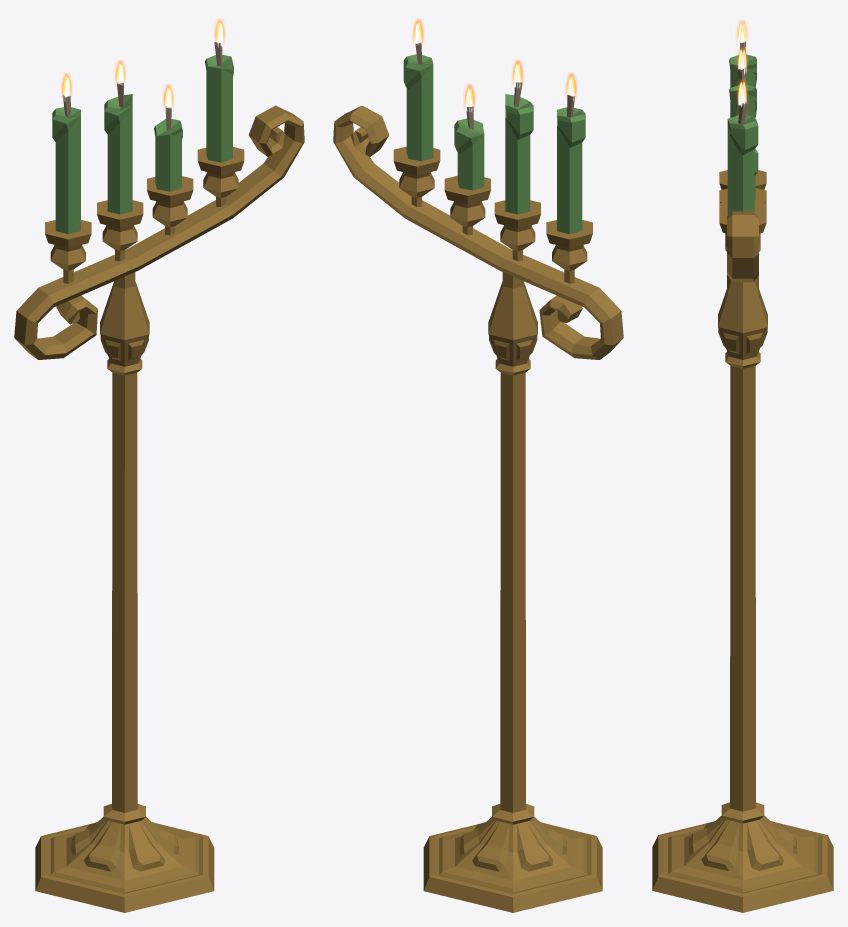
Rendered from JustCandles2.glb.
3 views of the same model, side by side, from view 1: azimuth 30°, elevation 25°; view 2: azimuth 150°, elevation 25°; view 3: azimuth 270°, elevation 25° (orthographic).
Parts seen in each view (by area): view 1: SM_Prop_Candle_Stand_03, Candle1, Candle2, Candle4, Candle3; view 2: SM_Prop_Candle_Stand_03, Candle1, Candle2, Candle4, Candle3; view 3: SM_Prop_Candle_Stand_03, Candle4, Candle2, Candle1.
Part boxes in pixels (x1,y1,x2,y2): SM_Prop_Candle_Stand_03: [14, 105, 304, 912]; Candle1: [52, 94, 80, 234]; Candle2: [104, 82, 132, 214]; Candle4: [205, 42, 233, 162]; Candle3: [154, 106, 182, 191]; SM_Prop_Candle_Stand_03: [333, 105, 623, 912]; Candle1: [557, 94, 585, 234]; Candle2: [505, 82, 533, 214]; Candle4: [403, 42, 433, 161]; Candle3: [454, 106, 484, 190]; SM_Prop_Candle_Stand_03: [652, 170, 833, 912]; Candle4: [727, 101, 758, 214]; Candle2: [729, 67, 756, 199]; Candle1: [729, 41, 756, 87].
Size of the model in its own units: 0.5515 by 1.56 by 0.3048.
Materials: 2 (2 with a texture image).
